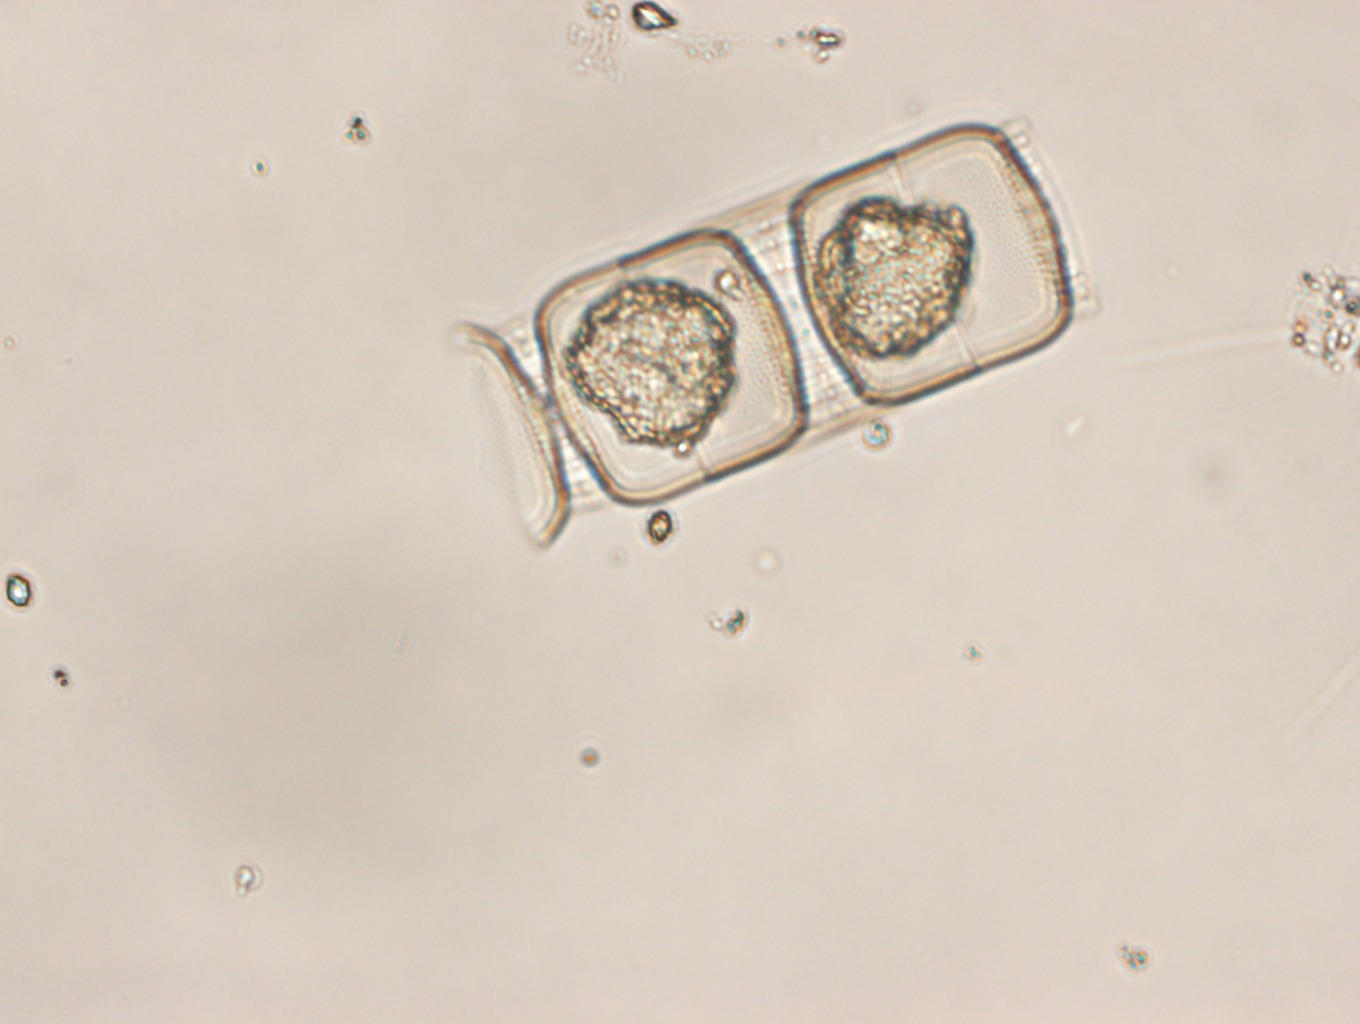skeletonema: (462, 115, 1101, 546)
